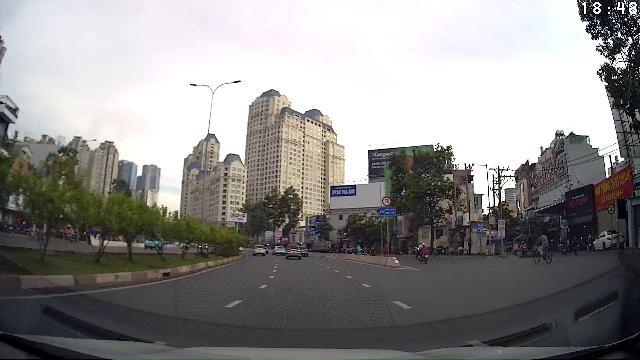127-toc-do-toi-da-70: (382, 196, 392, 206)
